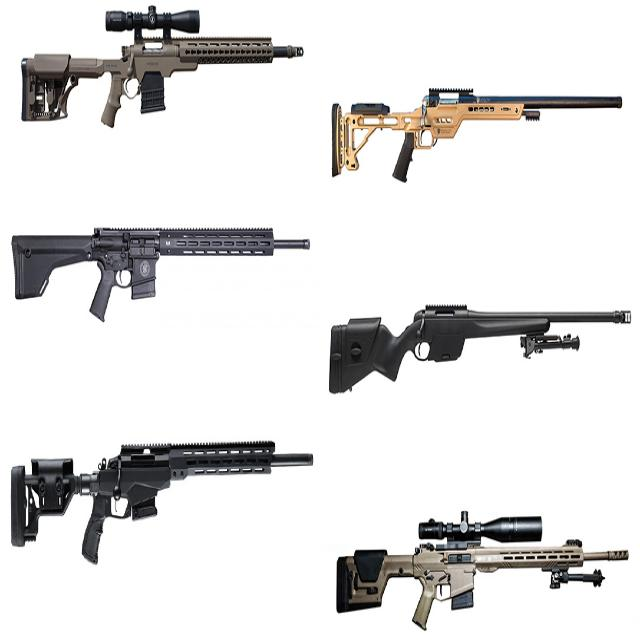Rifle: (6, 442, 315, 566), (336, 515, 631, 632), (19, 9, 303, 129), (332, 87, 625, 183), (329, 305, 633, 396), (10, 227, 275, 324)
